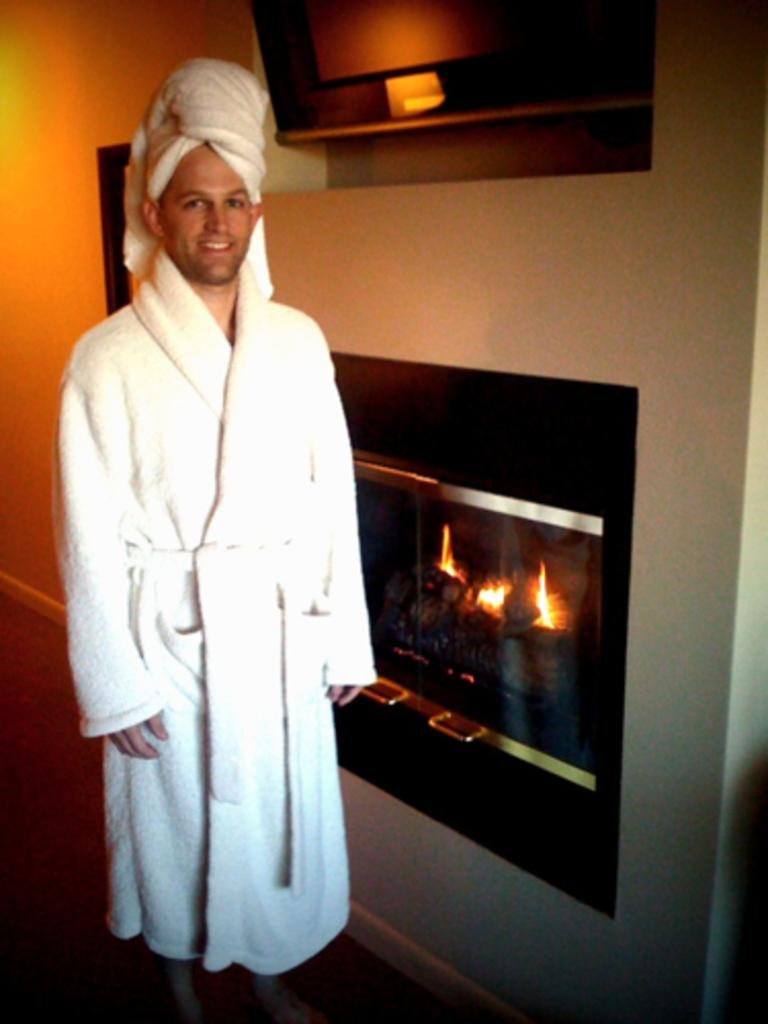Fire: (428, 526, 573, 631)
